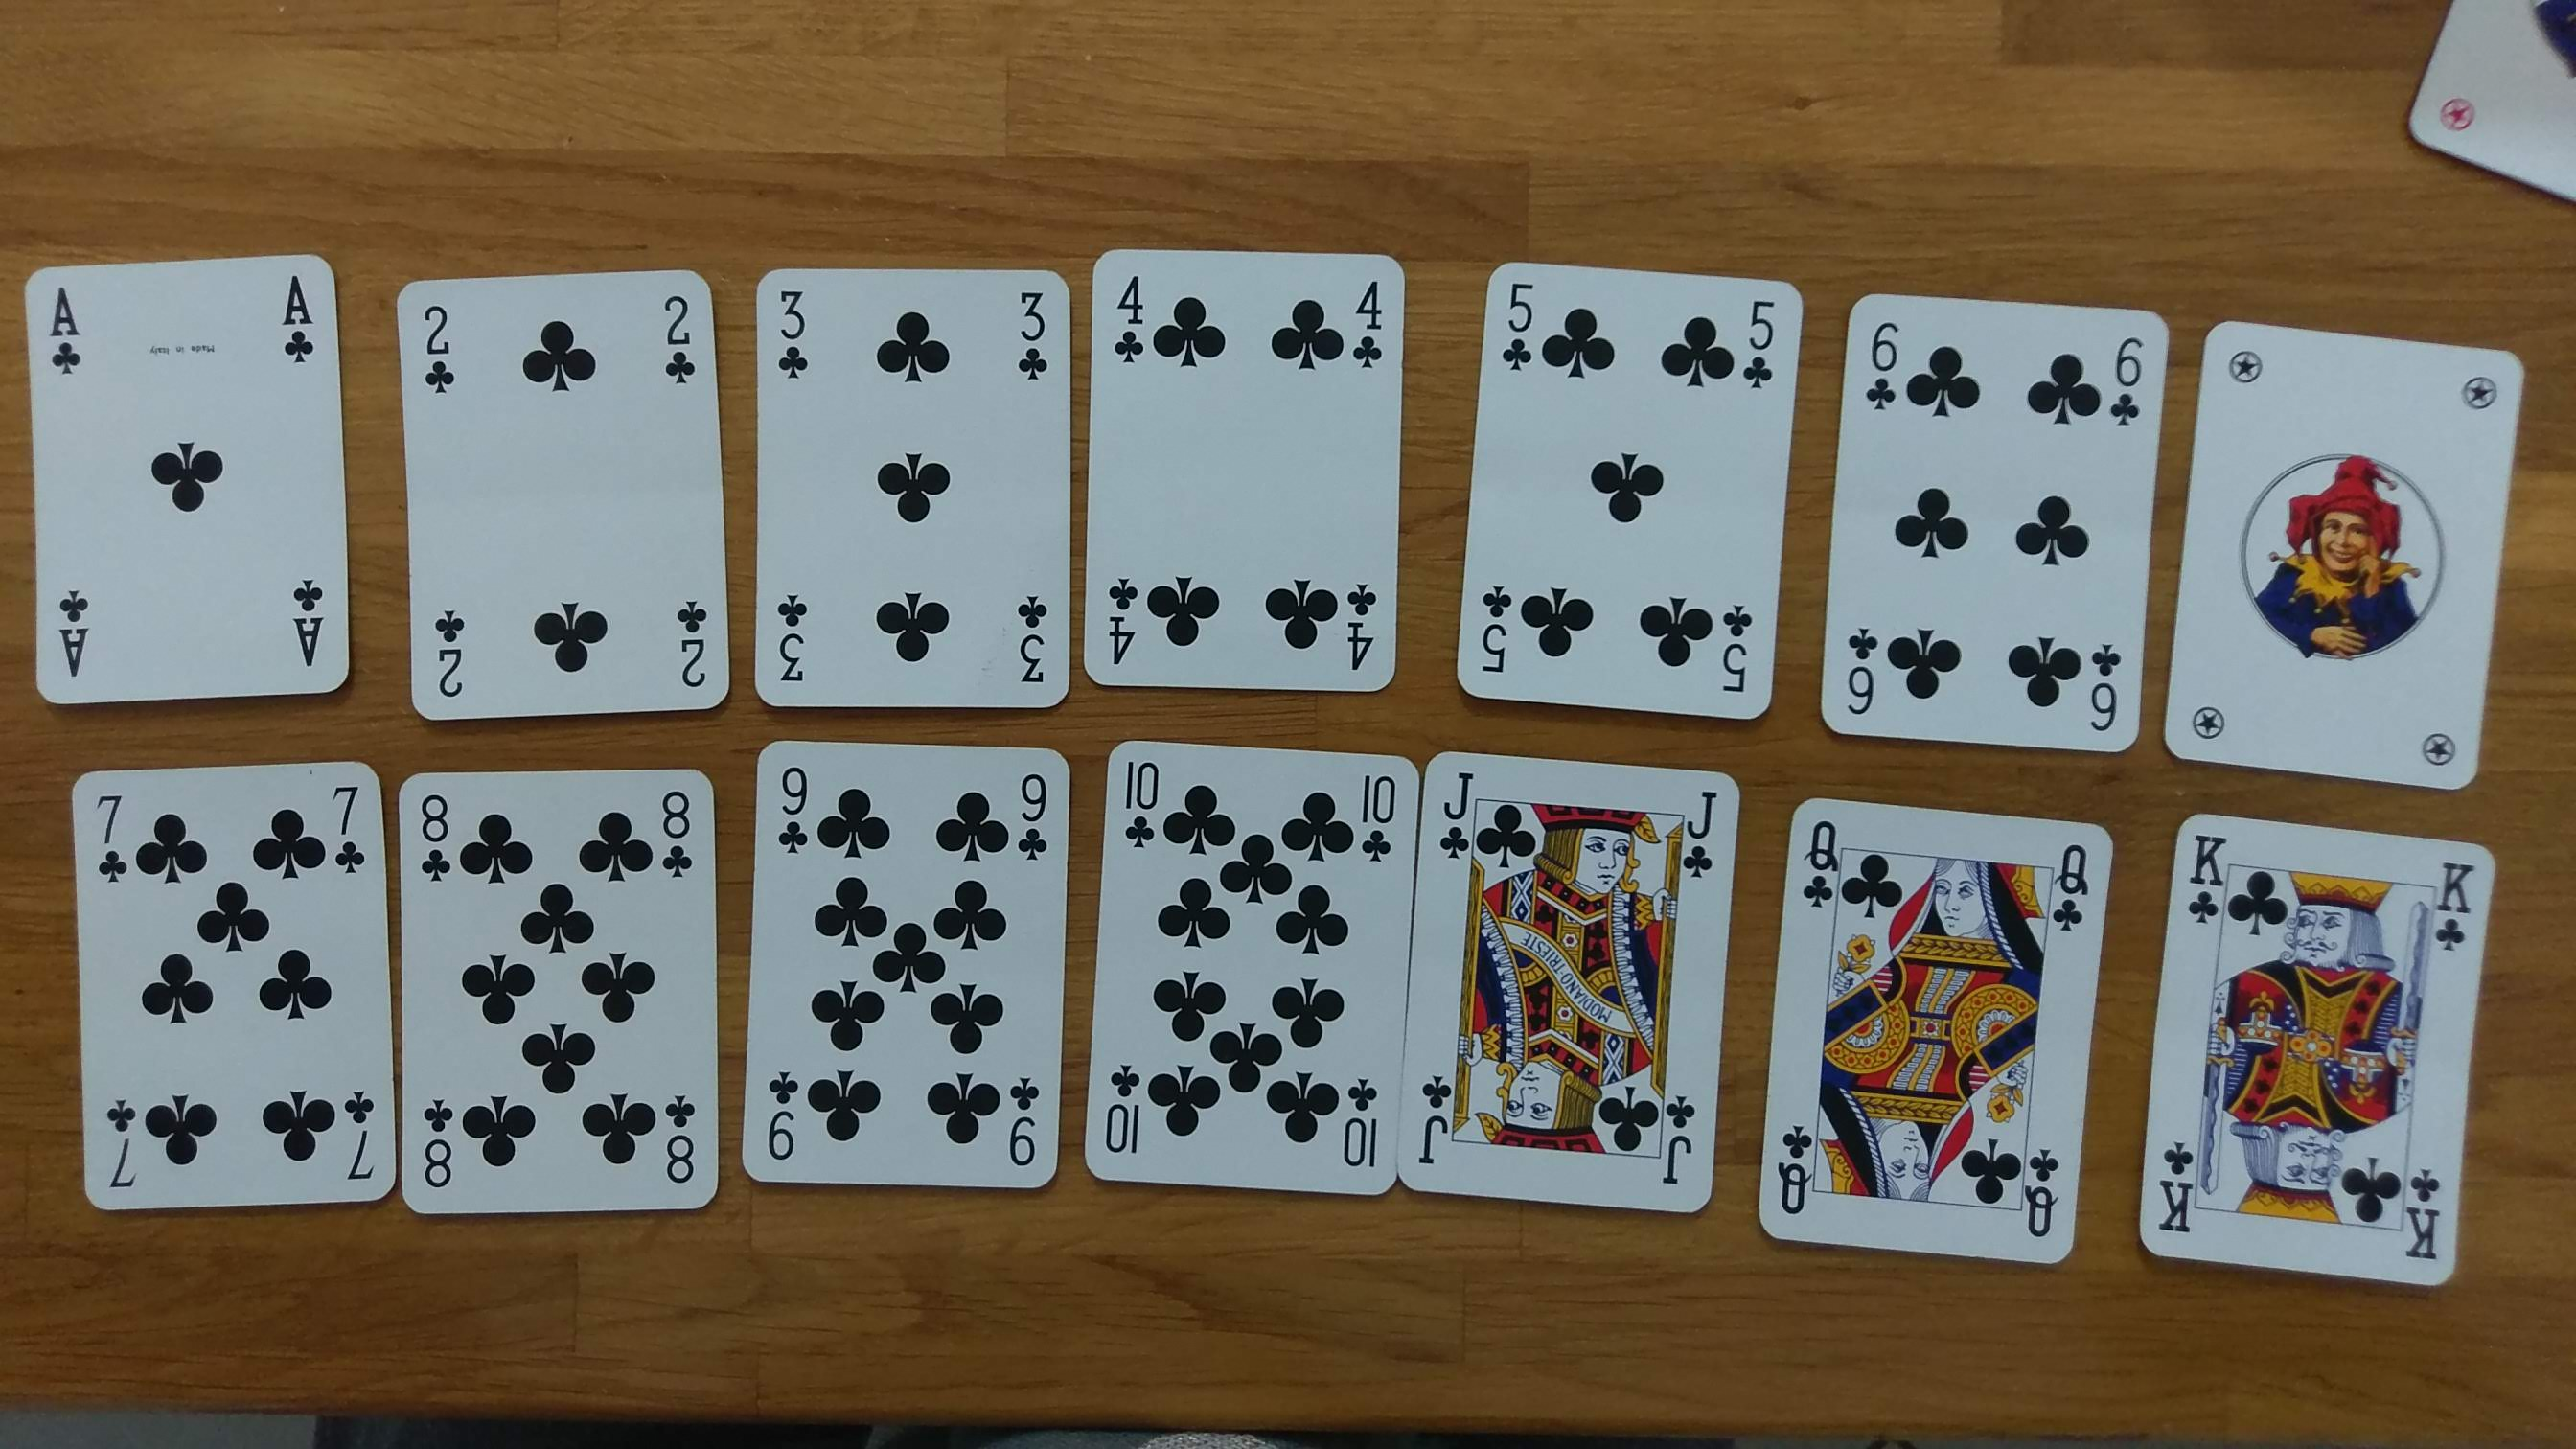10F: (1095, 1042, 1152, 1171), (1113, 741, 1169, 858), (1343, 759, 1399, 876), (1341, 1069, 1392, 1191)
1F: (39, 262, 106, 405), (42, 563, 108, 688), (271, 559, 333, 681), (264, 262, 326, 368)
2F: (648, 278, 706, 423), (433, 609, 487, 731), (419, 285, 467, 418), (669, 582, 717, 704)
3F: (757, 579, 823, 708), (1001, 579, 1062, 702), (1007, 258, 1056, 395), (768, 265, 816, 398)
4F: (1330, 563, 1399, 699), (1097, 570, 1159, 697), (1100, 258, 1157, 379), (1346, 257, 1392, 382)
5F: (1727, 274, 1801, 405), (1468, 564, 1527, 697), (1483, 255, 1539, 391), (1700, 582, 1760, 708)
6F: (1812, 596, 1905, 736), (2074, 630, 2135, 764), (1851, 301, 1914, 423), (2111, 303, 2158, 441)
7F: (80, 764, 142, 899), (320, 770, 382, 883), (90, 1088, 149, 1205), (341, 1072, 387, 1200)
8F: (651, 1083, 709, 1201), (398, 780, 460, 892), (644, 775, 699, 892), (416, 1083, 464, 1198)
9F: (750, 1060, 817, 1175), (761, 747, 816, 872), (1007, 754, 1051, 881), (1001, 1069, 1046, 1178)
JF: (1667, 775, 1730, 893), (1407, 1060, 1463, 1184), (1435, 755, 1488, 872), (1658, 1086, 1700, 1205)
KF: (2401, 1157, 2463, 1297), (2178, 814, 2235, 938), (2151, 1120, 2203, 1251), (2429, 847, 2482, 966)
QF: (2040, 821, 2105, 954), (2006, 1132, 2066, 1253), (1764, 1111, 1822, 1233), (1798, 807, 1845, 922)
